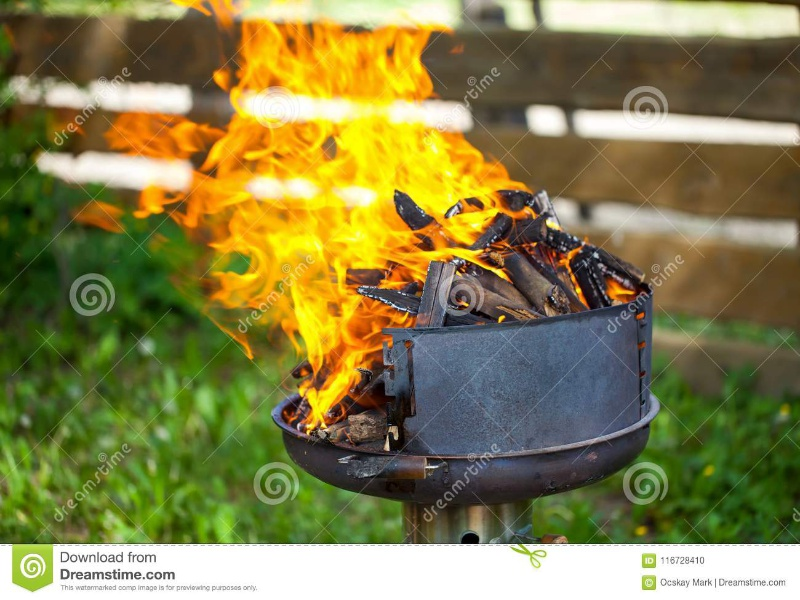fire: (167, 1, 522, 290), (199, 308, 413, 437)
